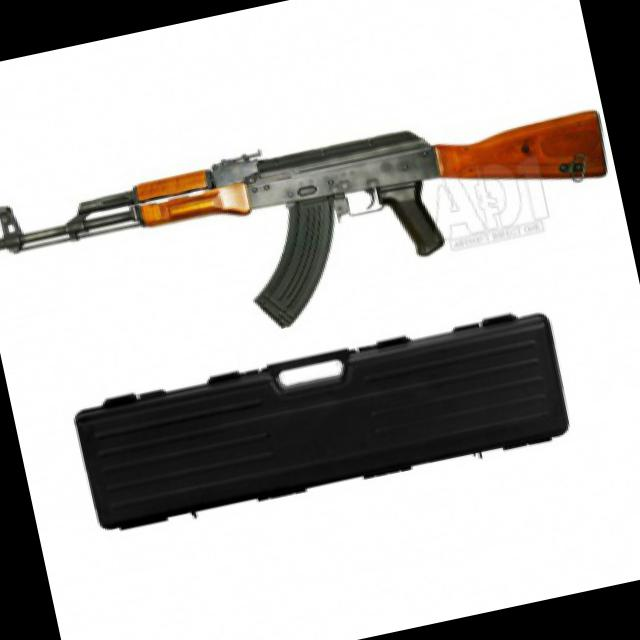long weapon: (0, 65, 632, 388)
